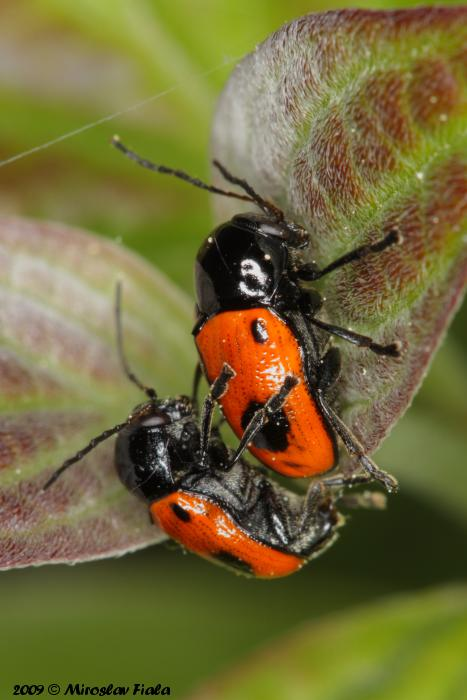Cryptocephalus_bipunctatus: (43, 275, 348, 580), (106, 127, 348, 477)
